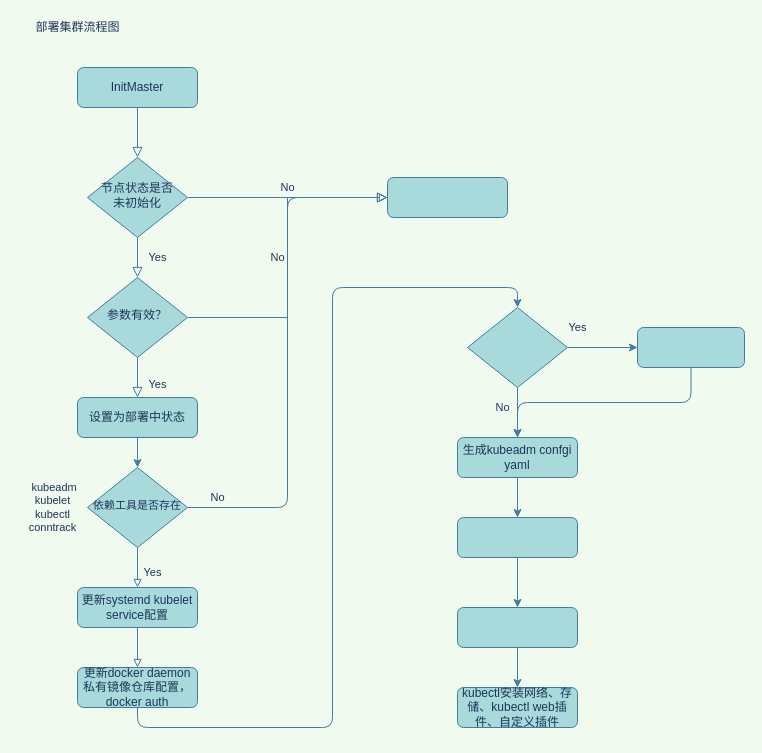
The diagram is 762 pixels wide and 753 high, and some of its shapes have lost their labels. Here are the shapes that lost their labels. From the top down, the centre of each, then its label:
At (447,197): "报错:".
At (517,347): "高可用集群？".
At (690,347): "生成keepalived,haproxy配置".
At (517,537): "kubeadm init部署集群".
At (517,627): "kubectl创建企业命名空间".
